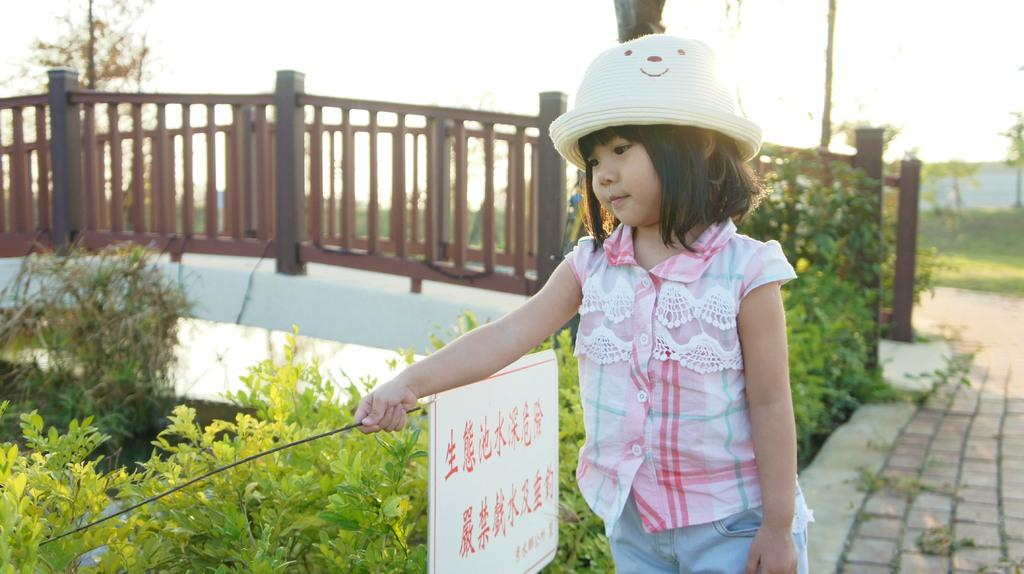Hat: (543, 29, 763, 167)
